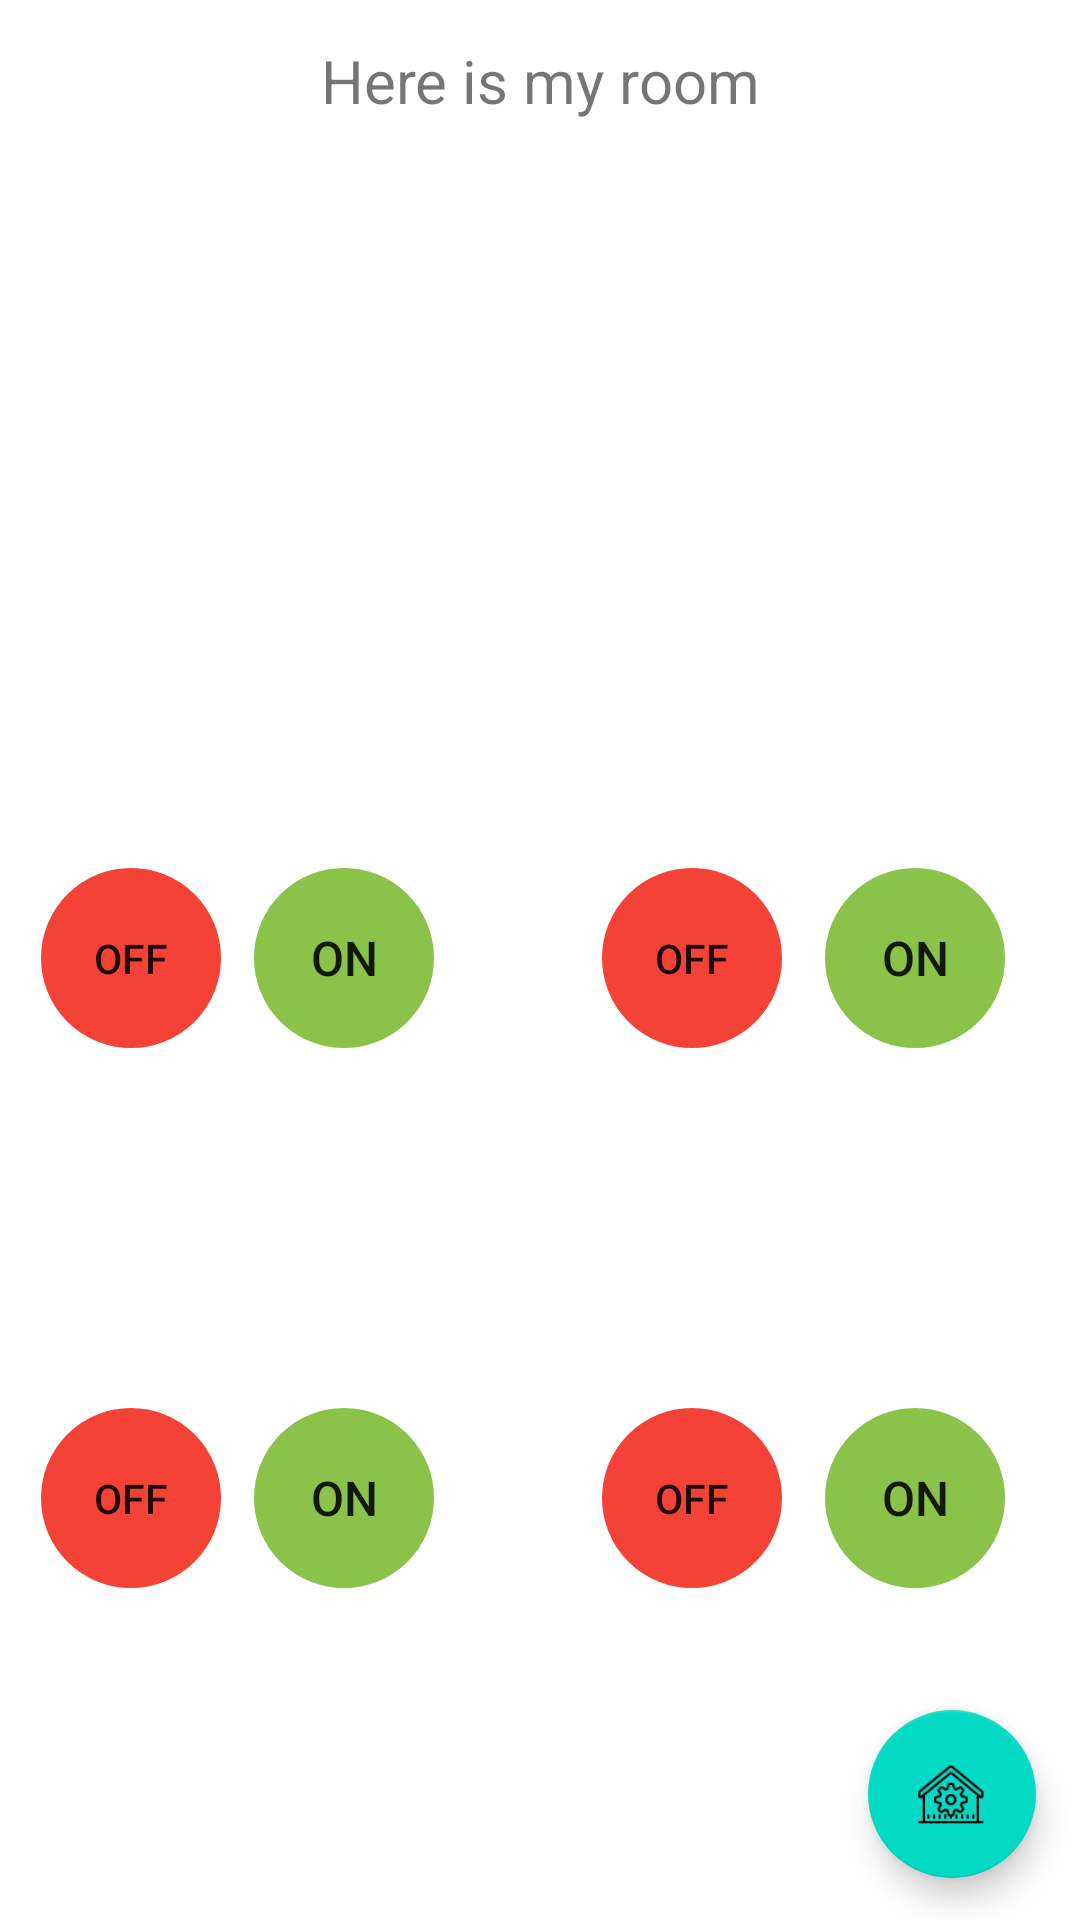

Icons on this 1080 × 1920 Android screen, each with the point to tap as [x,y]:
gear: [952,1794]
